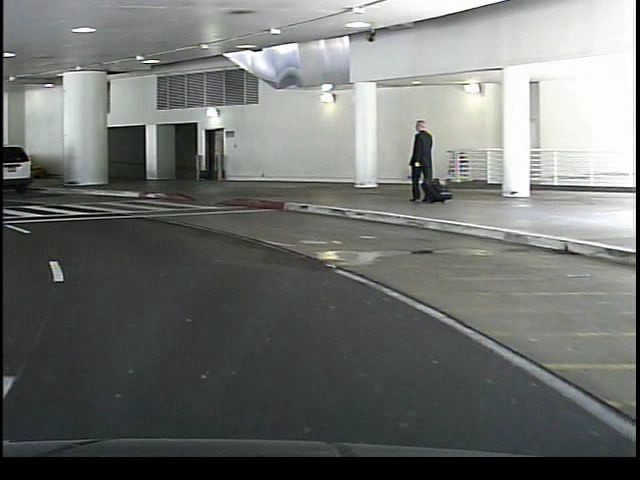person: (400, 119, 439, 205)
